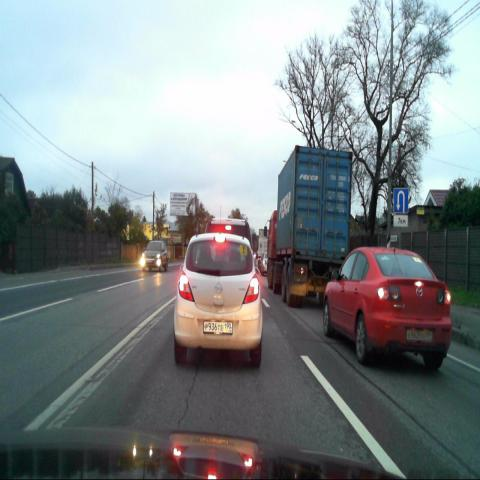6_3_1: (394, 188, 407, 213)
